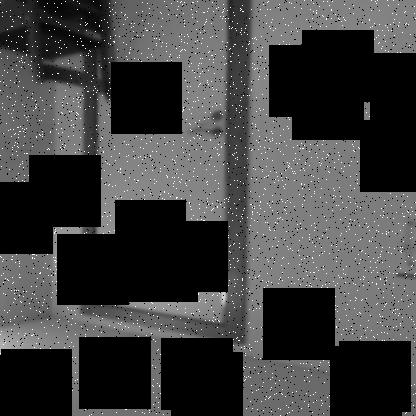Porte: (77, 1, 255, 346)
